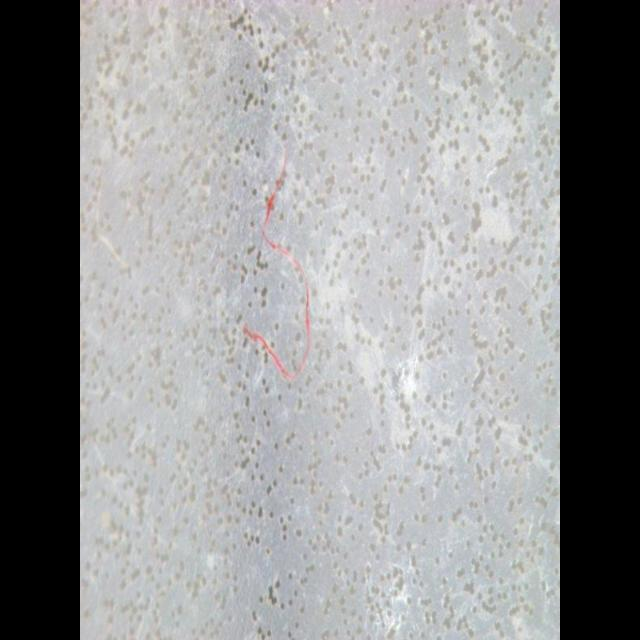Fibre: (241, 147, 311, 381)
